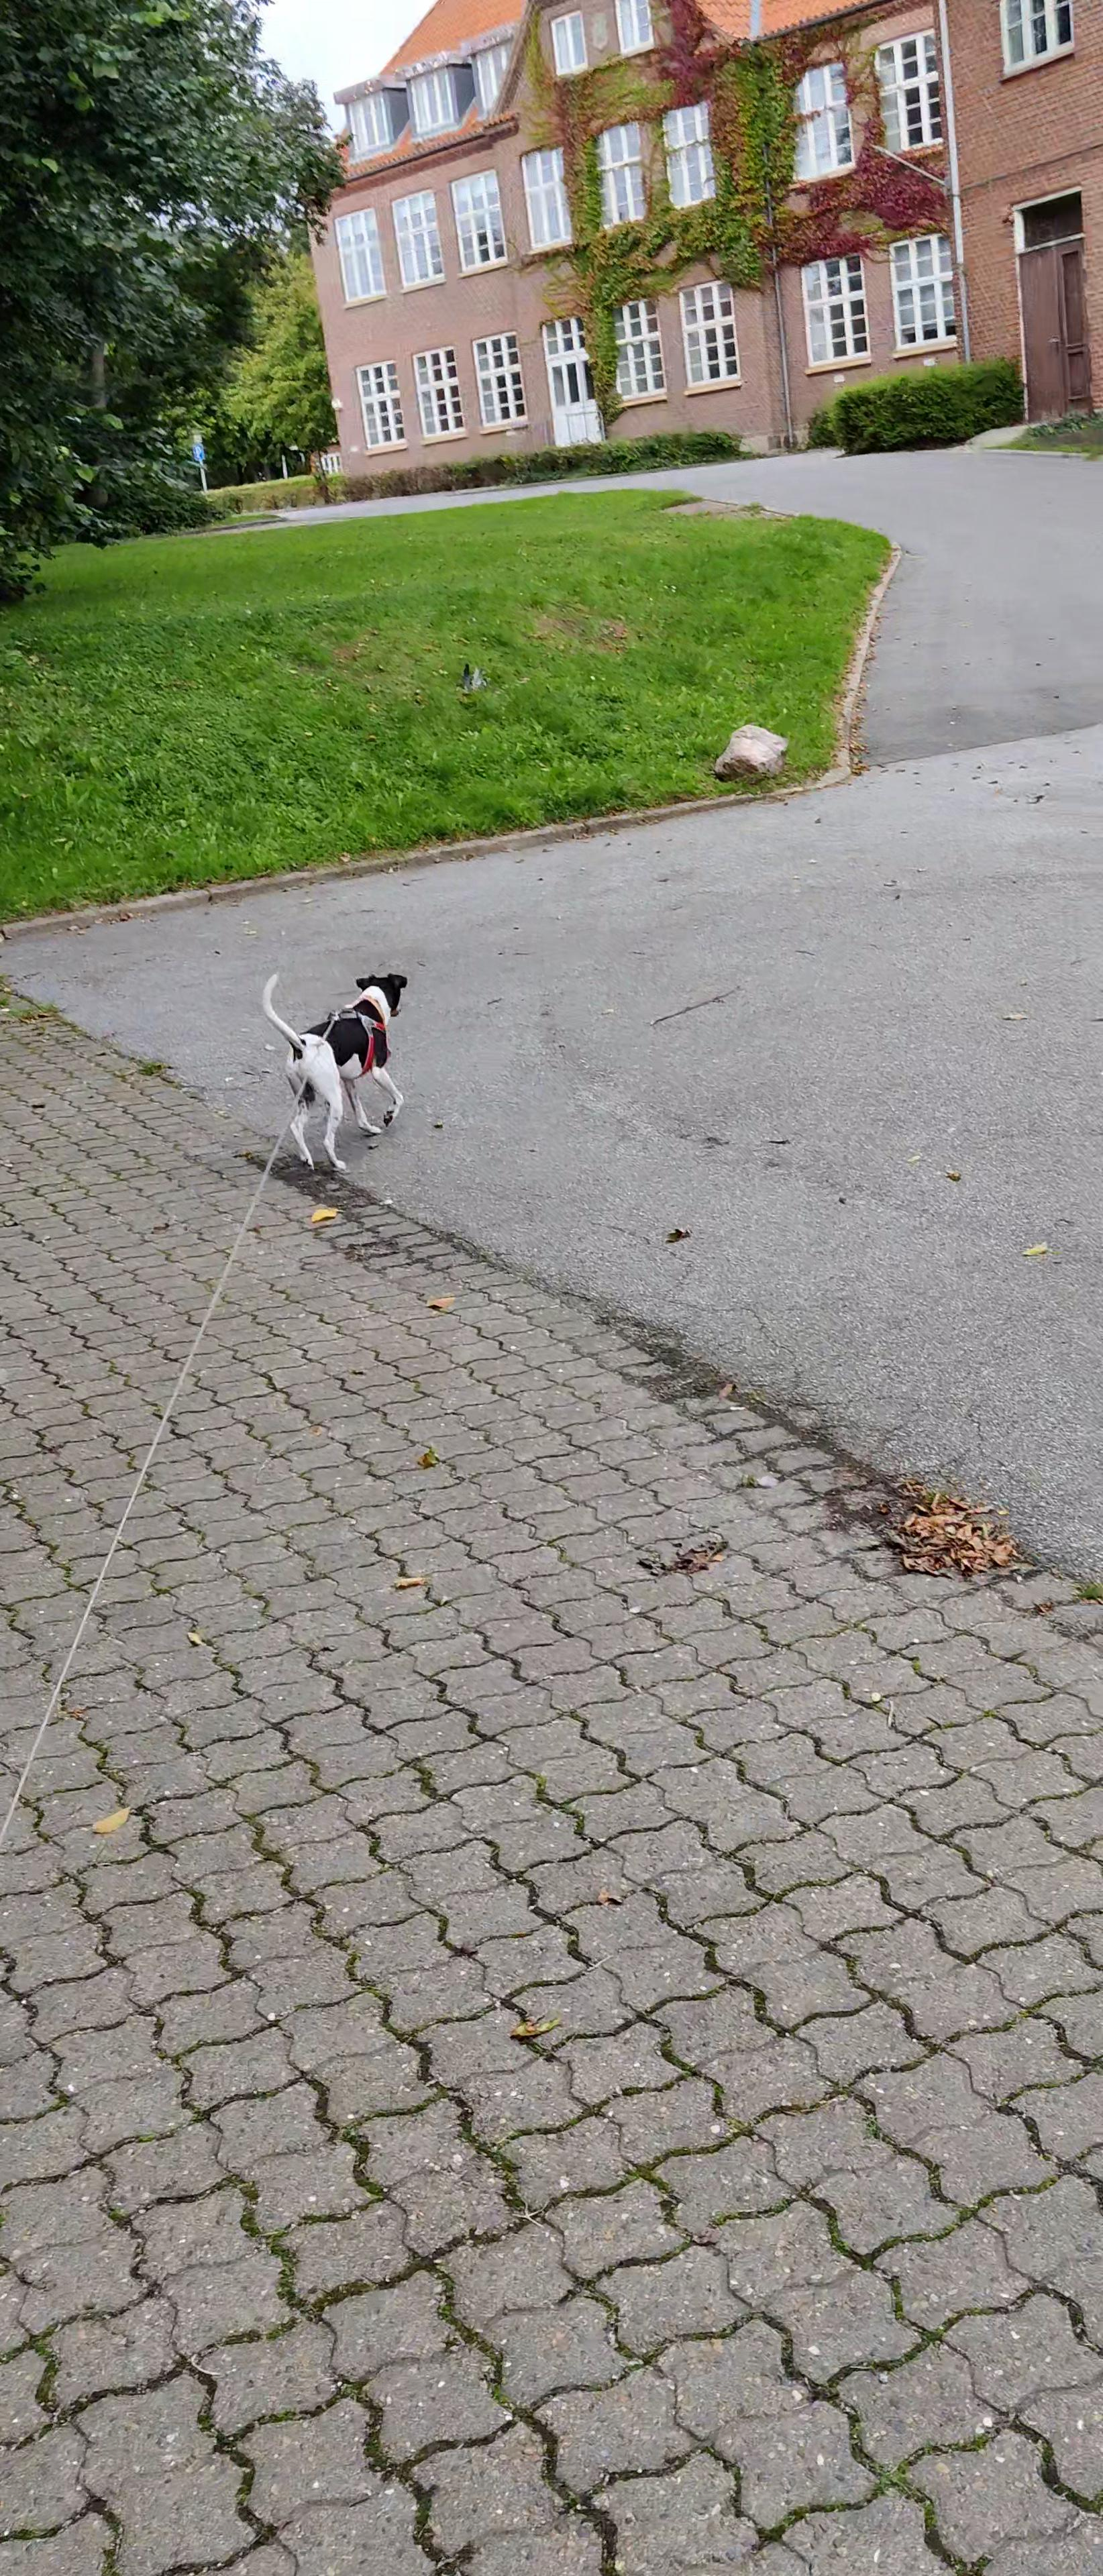Dog: (261, 968, 409, 1175)
